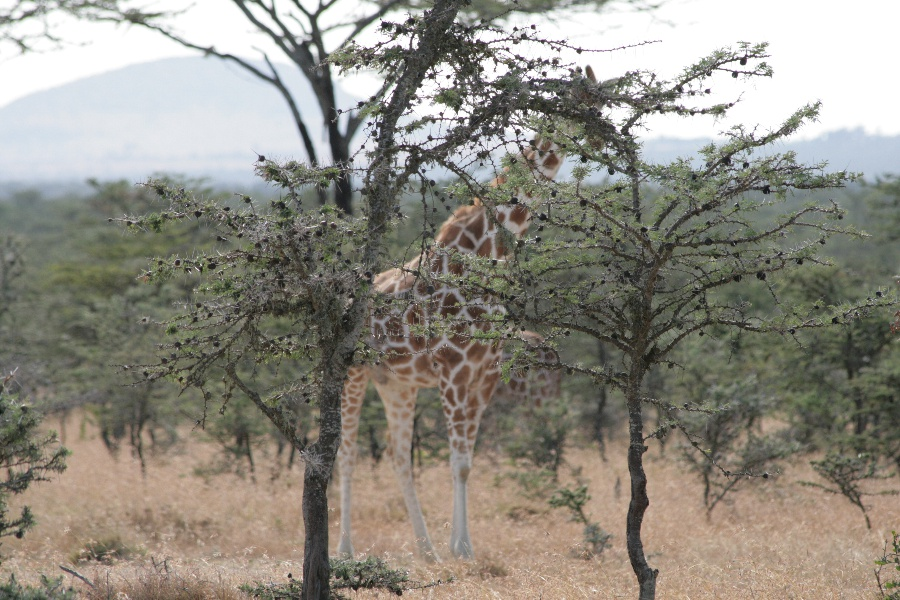giraffe: (319, 61, 629, 561)
